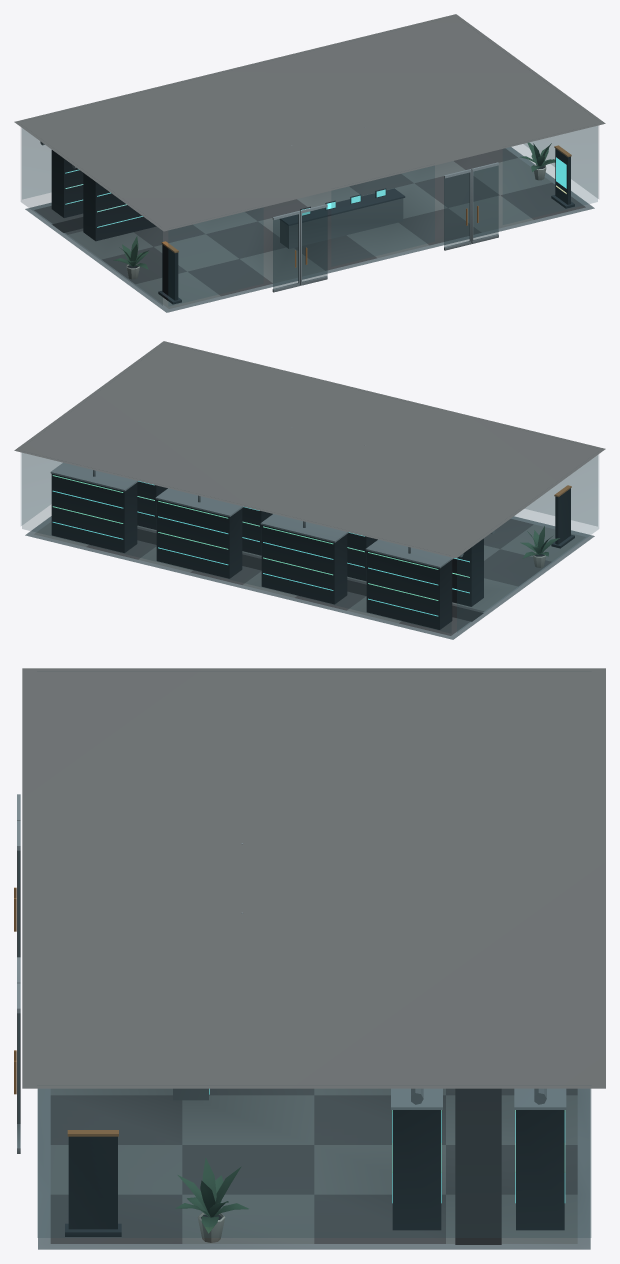
The model's file is lobby-infra.lod1.glb.
3 renders of one model, top to bottom at view 1: azimuth 30°, elevation 25°; view 2: azimuth 150°, elevation 25°; view 3: azimuth 270°, elevation 25°, orthographic. The views are drawn at different scales.
Visible parts, largest first — view 1: structure, door_0_l, door_0_r, door_1_l, door_1_r, foliage; view 2: structure, foliage; view 3: structure, foliage, door_1_r.
Part boxes in pixels (<box>): structure: <box>14,14,605,312</box>; door_0_l: <box>272,211,300,292</box>; door_0_r: <box>300,204,327,285</box>; door_1_l: <box>444,169,471,250</box>; door_1_r: <box>471,162,498,243</box>; foliage: <box>113,142,555,269</box>; structure: <box>14,341,605,639</box>; foliage: <box>520,526,559,558</box>; structure: <box>22,668,605,1249</box>; foliage: <box>175,1157,248,1233</box>; door_1_r: <box>14,983,20,1153</box>.
Bounding box in the file's own units: 19.39 × 3.62 × 11.53.
